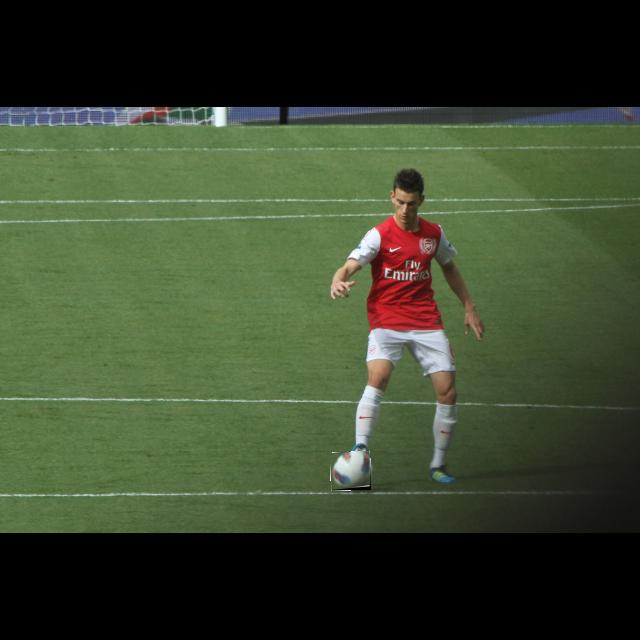Football: (331, 452, 371, 490)
